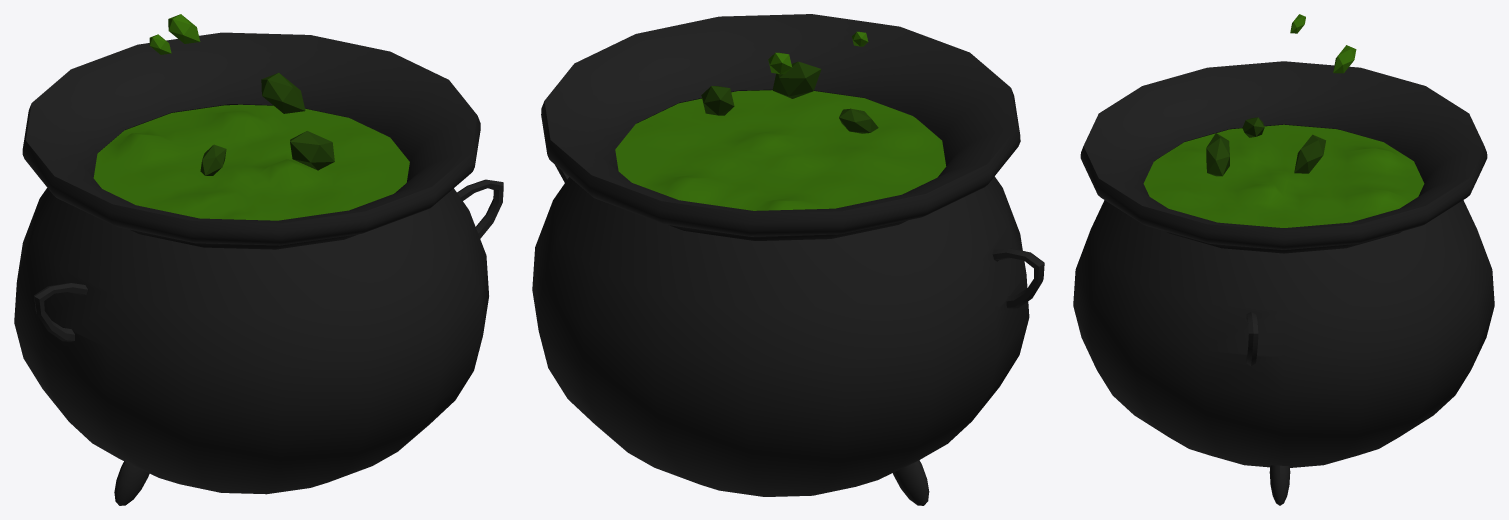
File: poison.fbx
The picture shows the model from 3 angles, left to right: view 1: azimuth 30°, elevation 25°; view 2: azimuth 150°, elevation 25°; view 3: azimuth 270°, elevation 25°; orthographic projection. The views are drawn at different scales.
Parts seen in each view (by area): view 1: BezierCurve, Plane, Icosphere.004, Icosphere.001, Icosphere.003, Icosphere; view 2: BezierCurve, Plane, Icosphere.004, Icosphere.001, Icosphere; view 3: BezierCurve, Plane, Icosphere.004, Icosphere.001.
Boxes of the visible parts, x1,y1,x2,y2 form: BezierCurve: [14, 32, 503, 505]; Plane: [93, 104, 409, 220]; Icosphere.004: [290, 131, 334, 170]; Icosphere.001: [261, 72, 305, 113]; Icosphere.003: [168, 14, 200, 43]; Icosphere: [200, 144, 226, 175]; BezierCurve: [532, 14, 1044, 505]; Plane: [615, 90, 946, 210]; Icosphere.004: [772, 61, 821, 98]; Icosphere.001: [701, 86, 734, 115]; Icosphere: [839, 108, 878, 133]; BezierCurve: [1073, 61, 1494, 505]; Plane: [1143, 124, 1424, 227]; Icosphere.004: [1206, 133, 1229, 176]; Icosphere.001: [1294, 134, 1325, 173].
Bounding box in the file's own units: 495 × 455 × 438.
